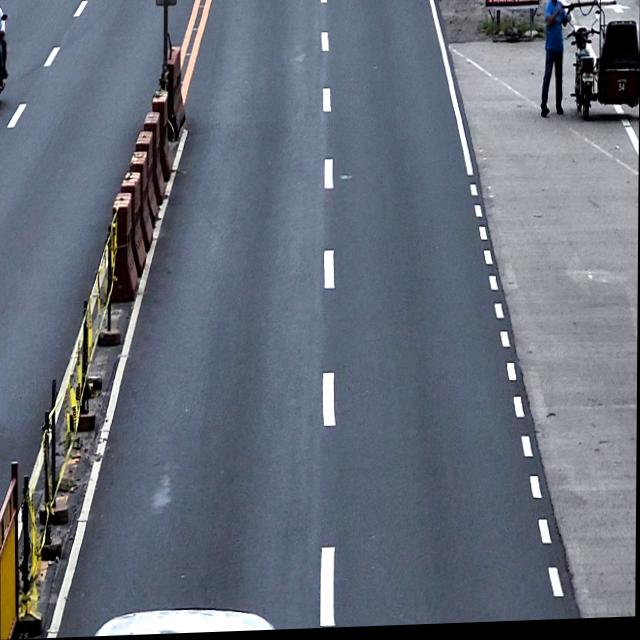License-Plate: (581, 75, 595, 88)
Tricycle: (570, 0, 640, 127)
